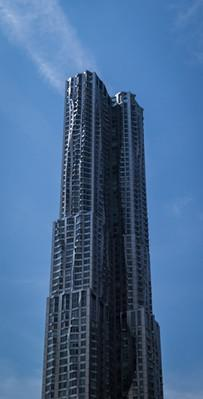building: (38, 69, 166, 396)
